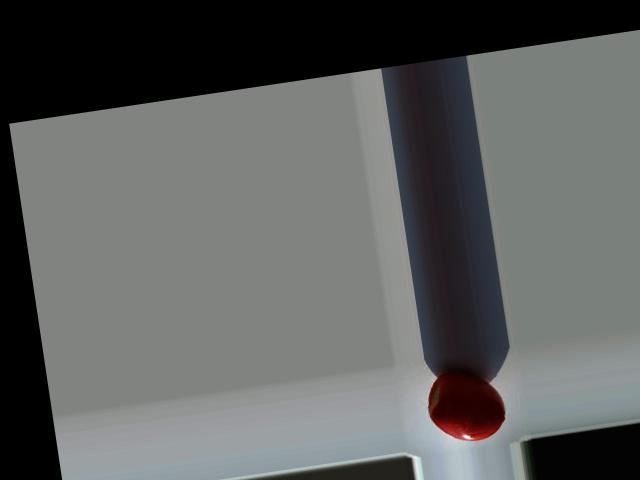tomato: (423, 364, 509, 446)
